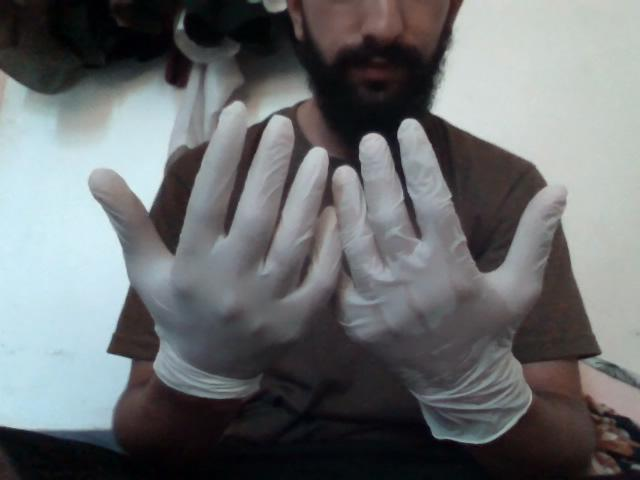gloves: (61, 112, 567, 464)
